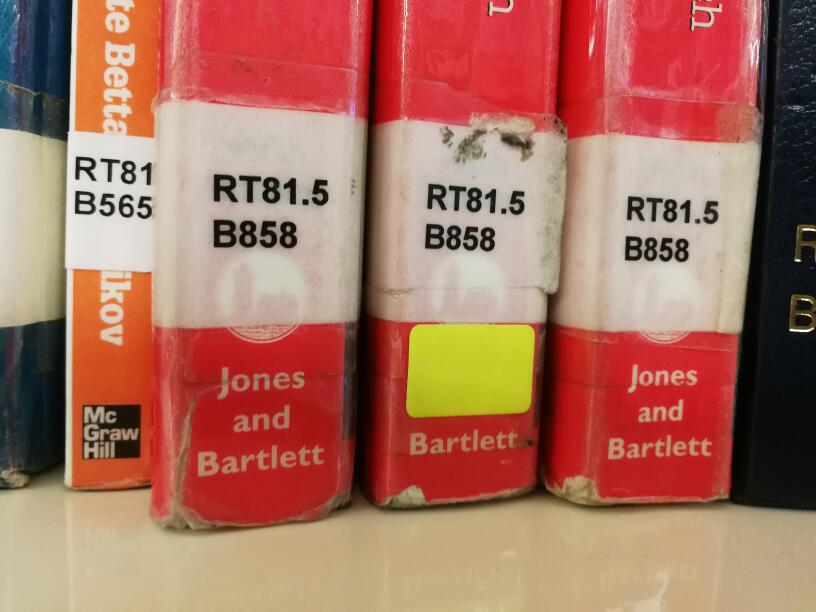booklabel: (207, 170, 331, 250), (422, 179, 527, 254), (621, 193, 719, 264), (73, 153, 154, 220)
